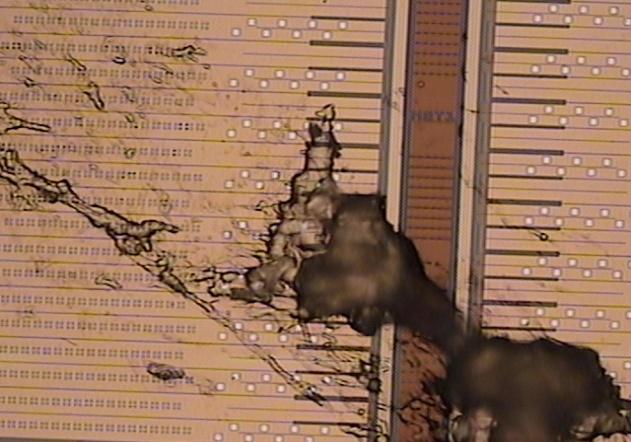PO CONTAMINATION: (1, 2, 631, 442)
